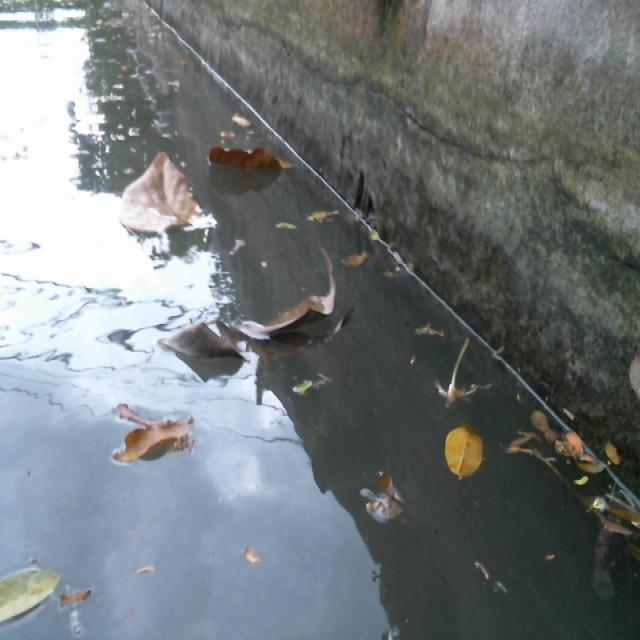Big-leaf: (156, 244, 351, 372), (89, 397, 209, 492), (120, 148, 222, 253), (210, 138, 292, 177)
Small-leaf: (348, 465, 422, 539), (0, 559, 65, 622), (235, 532, 285, 595), (445, 425, 485, 487), (280, 360, 330, 402), (531, 408, 566, 464), (118, 561, 172, 593), (568, 433, 598, 483), (602, 436, 630, 483), (515, 435, 545, 476), (308, 197, 350, 226), (408, 320, 448, 350), (337, 249, 376, 274), (58, 587, 102, 608), (274, 219, 298, 244), (231, 103, 251, 123)
